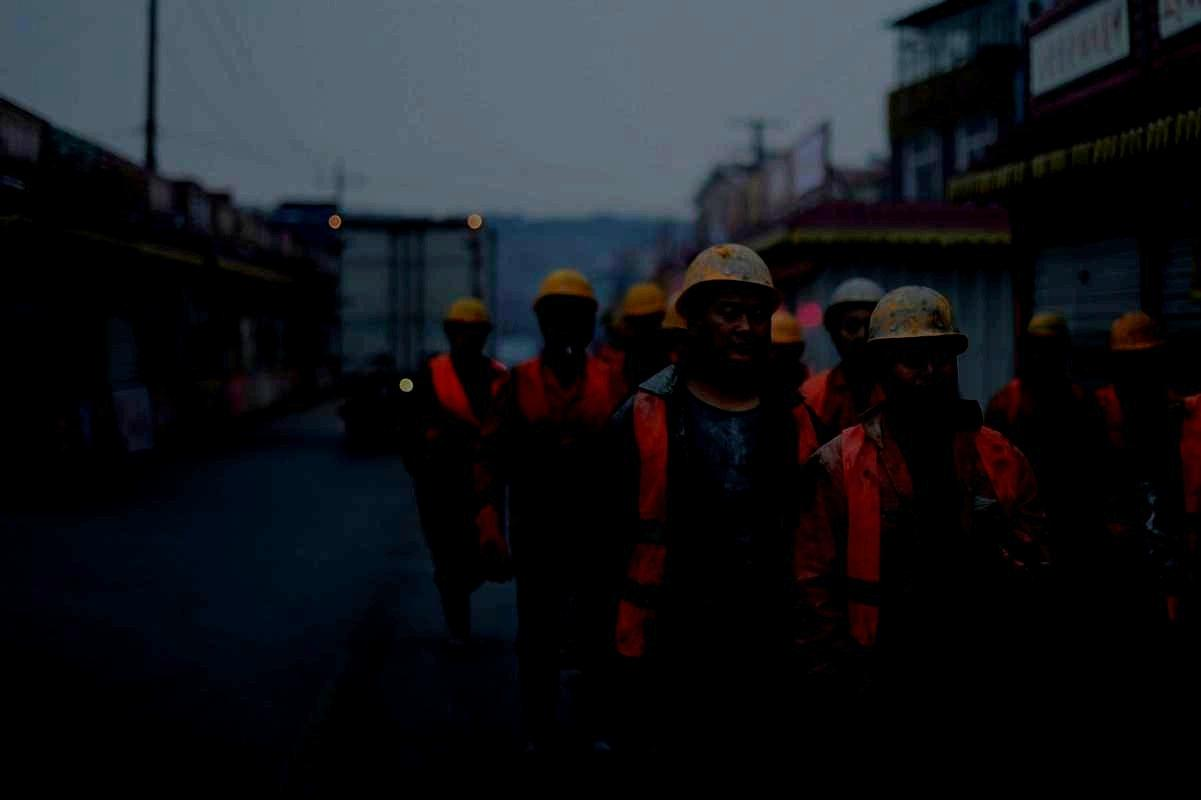helmet: (674, 242, 782, 371), (867, 286, 969, 415), (532, 267, 600, 357), (821, 277, 887, 361), (441, 295, 493, 359), (620, 281, 667, 342), (770, 306, 808, 371), (1108, 310, 1167, 351), (661, 286, 687, 360), (1027, 309, 1075, 340)
